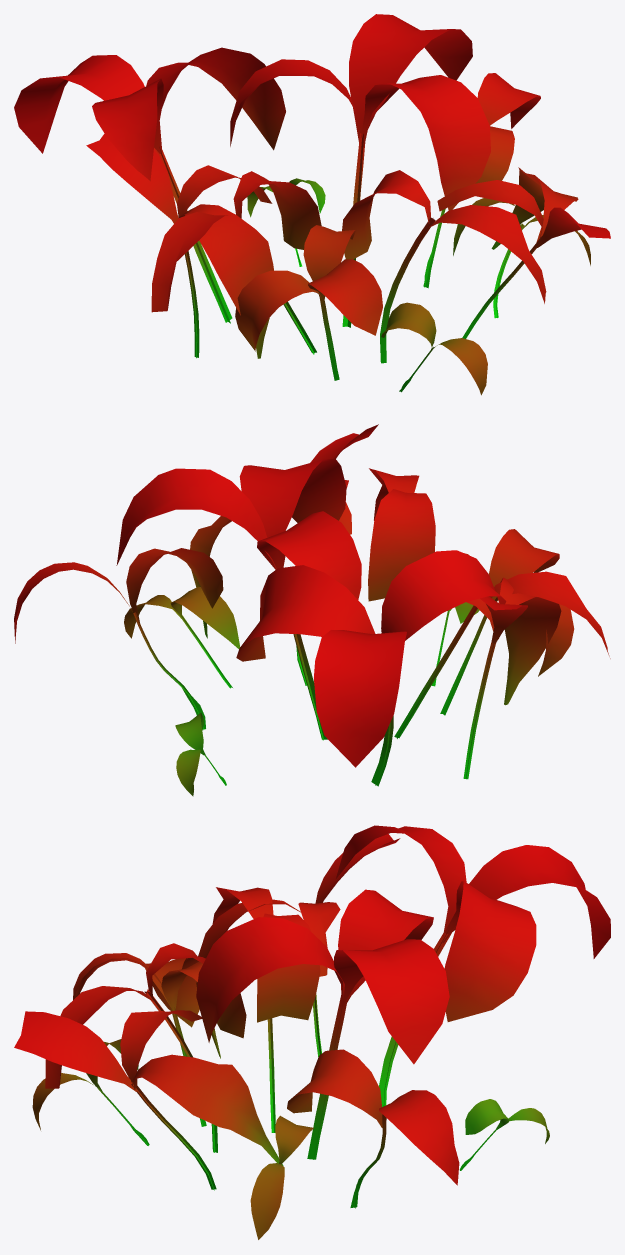
File: VegetationLeaf_01_Mesh.fbx
The picture shows the model from 3 angles, top to bottom: view 1: azimuth 30°, elevation 25°; view 2: azimuth 150°, elevation 25°; view 3: azimuth 270°, elevation 25°; orthographic projection. The views are drawn at different scales.
Visible parts, largest first — view 1: VegetationLeaf_06_LOD0; view 2: VegetationLeaf_06_LOD0; view 3: VegetationLeaf_06_LOD0.
Boxes of the visible parts, x1,y1,x2,y2 form: VegetationLeaf_06_LOD0: [14, 14, 610, 395]; VegetationLeaf_06_LOD0: [14, 424, 610, 796]; VegetationLeaf_06_LOD0: [14, 825, 610, 1239].
Size of what is drawn, in the model's own units: 52.87 by 26.35 by 55.06.
